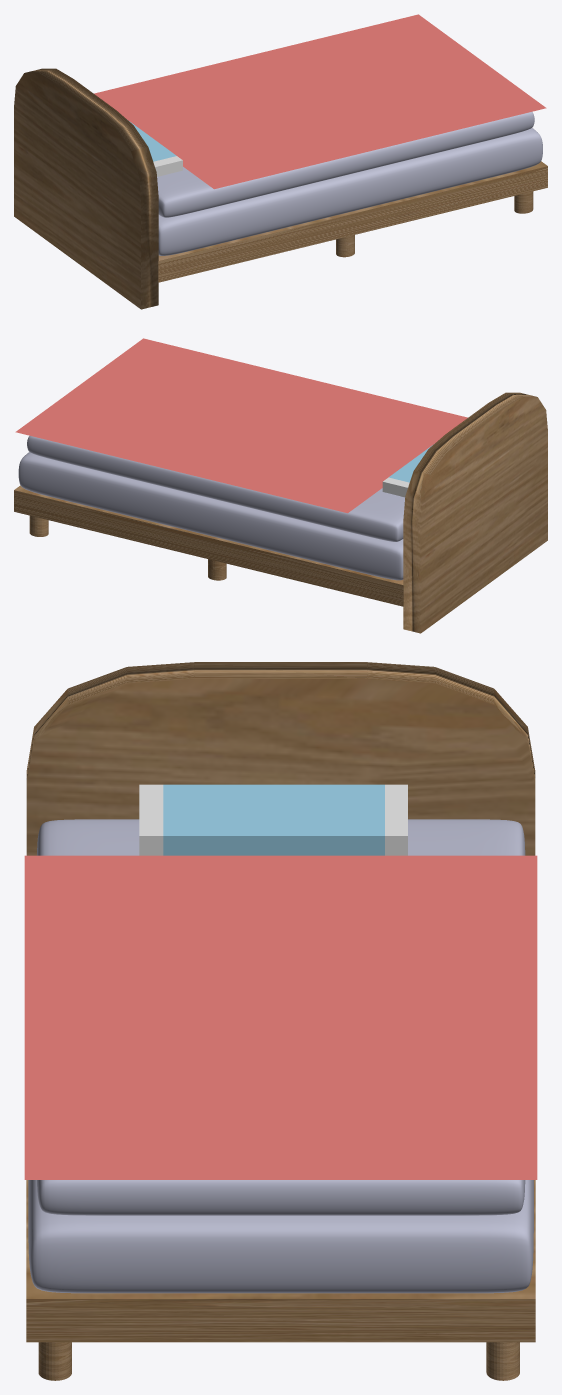
The model's file is bed.gltf.
The picture shows the model from 3 angles, top to bottom: view 1: azimuth 30°, elevation 25°; view 2: azimuth 150°, elevation 25°; view 3: azimuth 270°, elevation 25°; orthographic projection. The views are drawn at different scales.
Visible parts, largest first — view 1: 平面, 立方体.001, Cube, Cube.001, 立方体; view 2: 平面, 立方体.001, Cube, Cube.001, 立方体; view 3: 平面, 立方体.001, Cube, Cube.001, 立方体.
Boxes of the visible parts, box(x1,y1,x2,y2) form: 平面: box(94, 14, 546, 189); 立方体.001: box(14, 68, 547, 309); Cube: box(158, 128, 542, 255); Cube.001: box(157, 112, 534, 217); 立方体: box(129, 121, 182, 176); 平面: box(15, 338, 467, 513); 立方体.001: box(14, 392, 547, 633); Cube: box(18, 452, 403, 580); Cube.001: box(27, 436, 404, 541); 立方体: box(382, 445, 432, 497); 平面: box(24, 855, 537, 1179); 立方体.001: box(26, 662, 535, 1380); Cube: box(28, 1180, 533, 1293); Cube.001: box(37, 819, 525, 1215); 立方体: box(139, 784, 407, 855).
Bounding box in the file's own units: 6.27 × 2.43 × 3.42.
5 materials, 1 textured.
